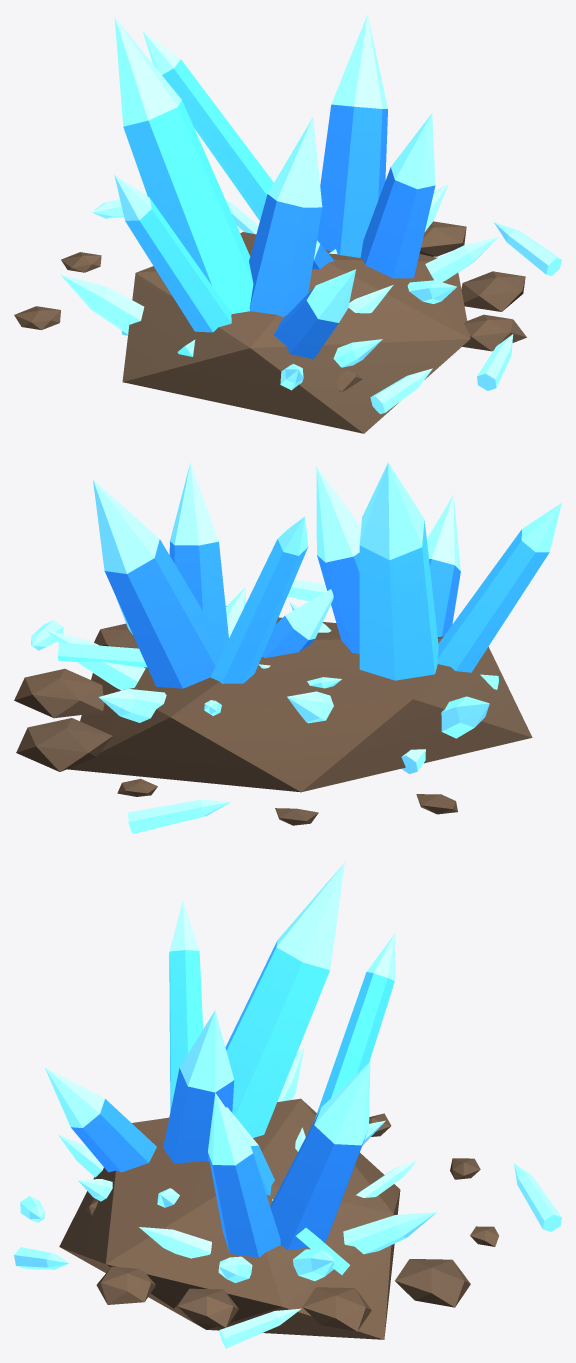
File: minerai_3.glb
3 renders of one model, top to bottom at view 1: azimuth 30°, elevation 25°; view 2: azimuth 150°, elevation 25°; view 3: azimuth 270°, elevation 25°, orthographic. The views are drawn at different scales.
Parts seen in each view (by area): view 1: minerai_3; view 2: minerai_3; view 3: minerai_3.
Boxes of the visible parts, box(x1,y1,x2,y2) form: minerai_3: box(14, 14, 561, 433); minerai_3: box(14, 462, 561, 833); minerai_3: box(14, 862, 561, 1348).
Bounding box in the file's own units: 1.42 × 1.01 × 1.46.
